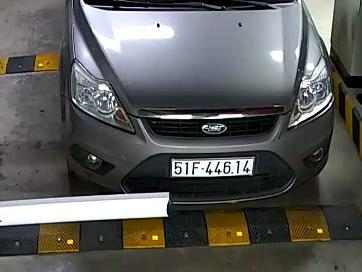number: (170, 156, 255, 179)
